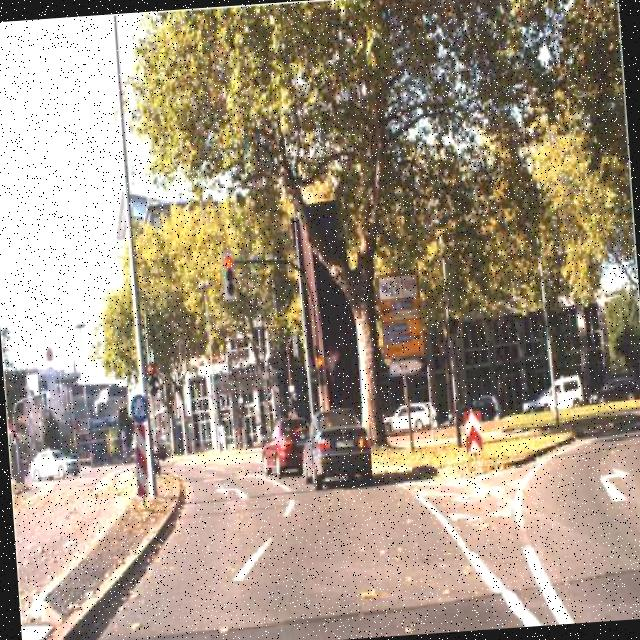Ustap pierwszenstwa: (322, 350, 342, 380)
Zakaz wjazdu: (84, 432, 94, 444)
